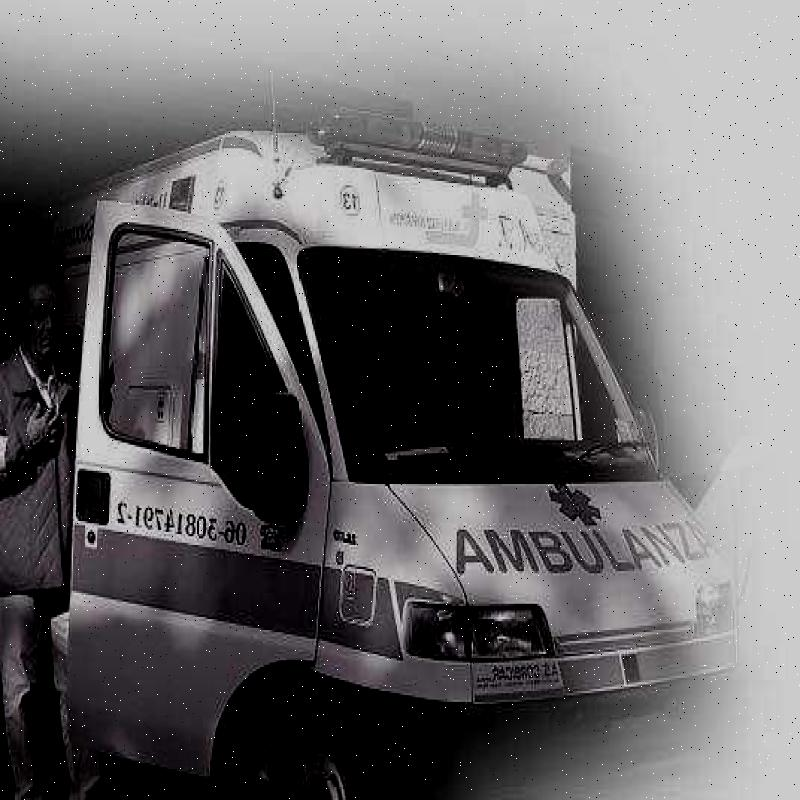AmbulanceSiren: (304, 97, 528, 188)
